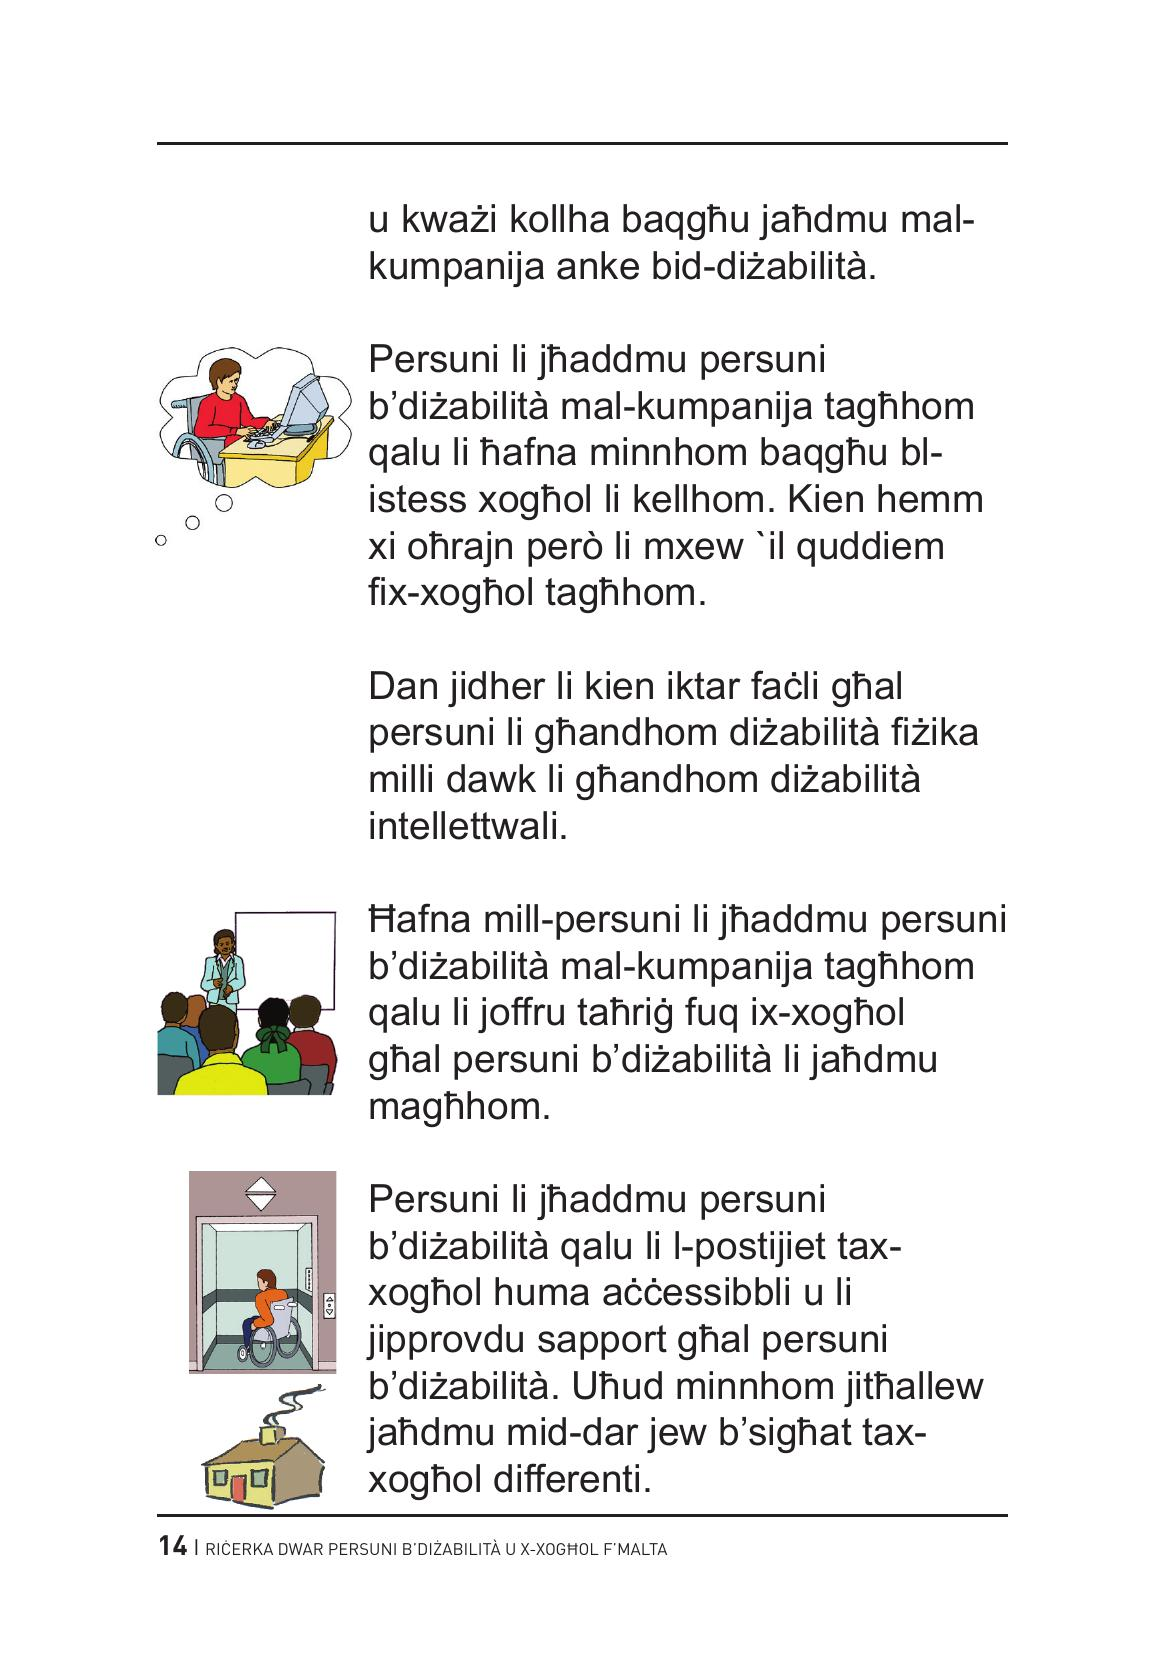text: (360, 185, 1017, 1505)
